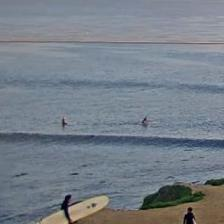surfer: (61, 118, 67, 126), (142, 116, 148, 124)
